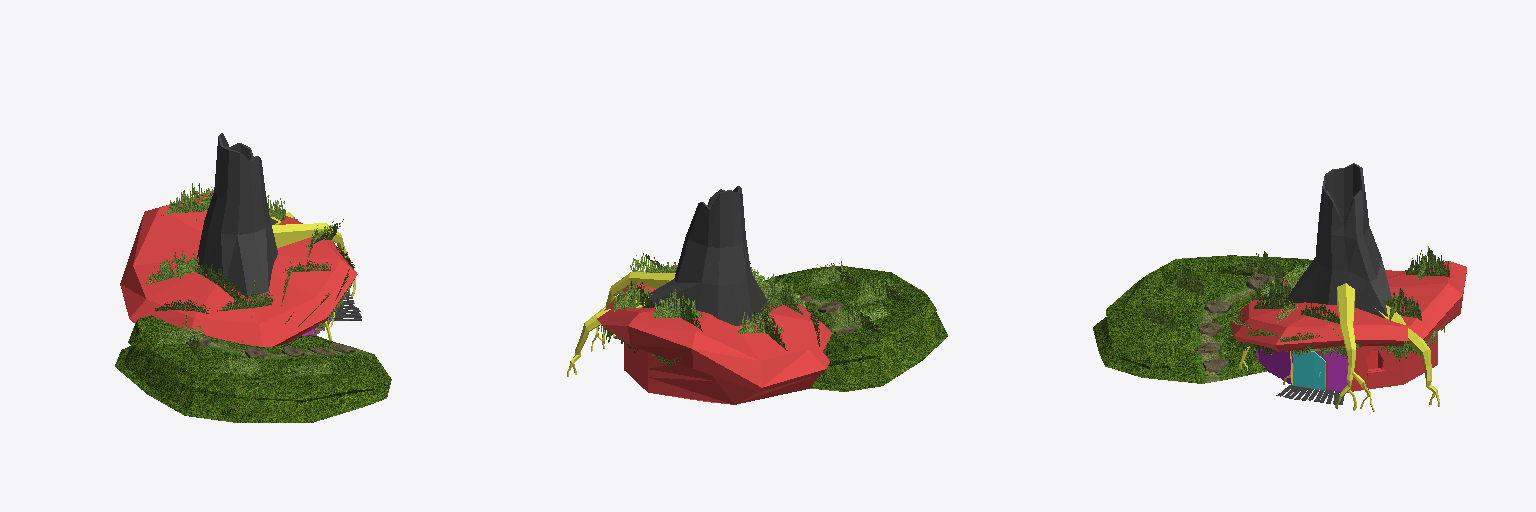
3 views of the same model, side by side, from view 1: azimuth 30°, elevation 25°; view 2: azimuth 150°, elevation 25°; view 3: azimuth 270°, elevation 25° (orthographic).
Parts seen in each view (by area): view 1: Shreks_HouseShape; view 2: Shreks_HouseShape; view 3: Shreks_HouseShape.
Boxes of the visible parts, box(x1,y1,x2,y2) form: Shreks_HouseShape: box(115, 133, 391, 422); Shreks_HouseShape: box(567, 186, 947, 404); Shreks_HouseShape: box(1093, 163, 1466, 411).
Size of the model in its own units: 11.15 by 7.49 by 13.72.
10 materials, 4 textured.